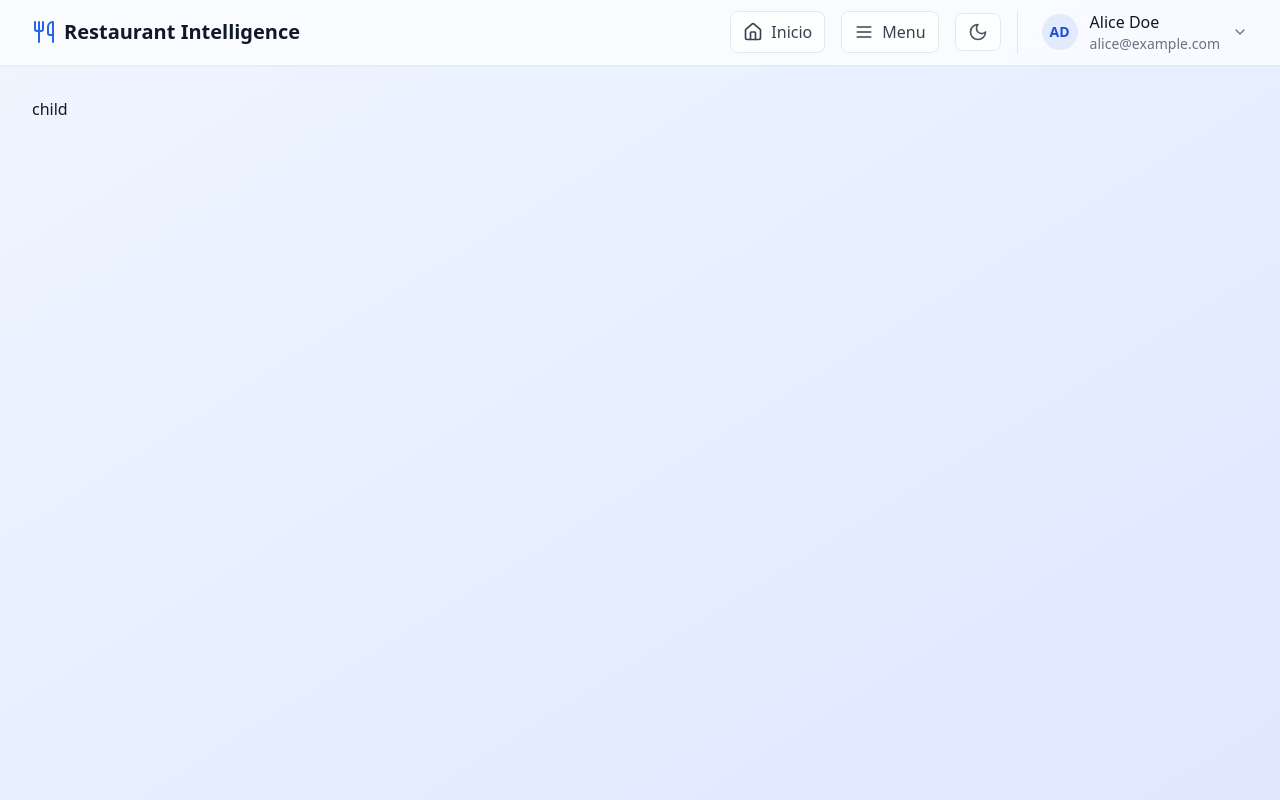
Test: Layout › opens Favorites modal and saves a favorite
abre Menu
Click the button "Menu": point(890, 32) [841,11,939,53]
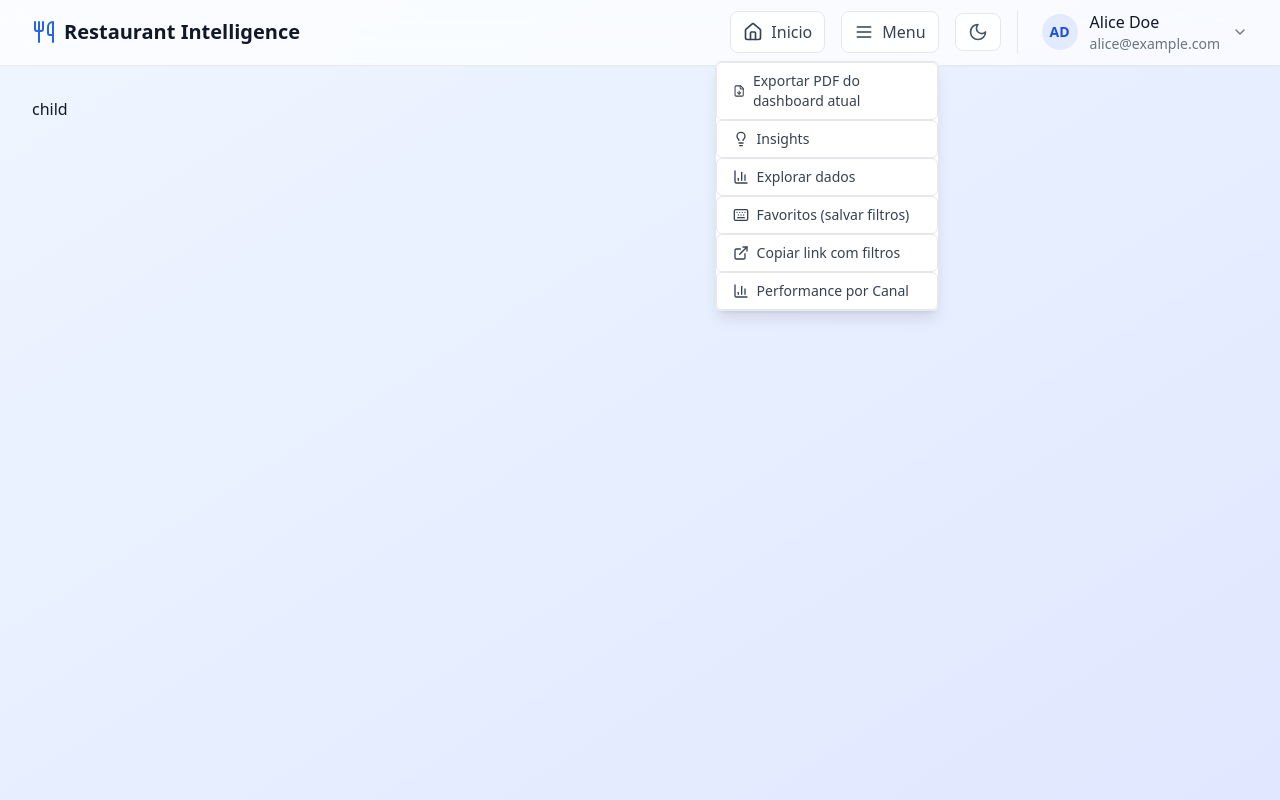
abre Insights (antigo Favoritos)
Click the menu item "Favoritos (salvar filtros)": point(827, 215) [716,196,938,234]
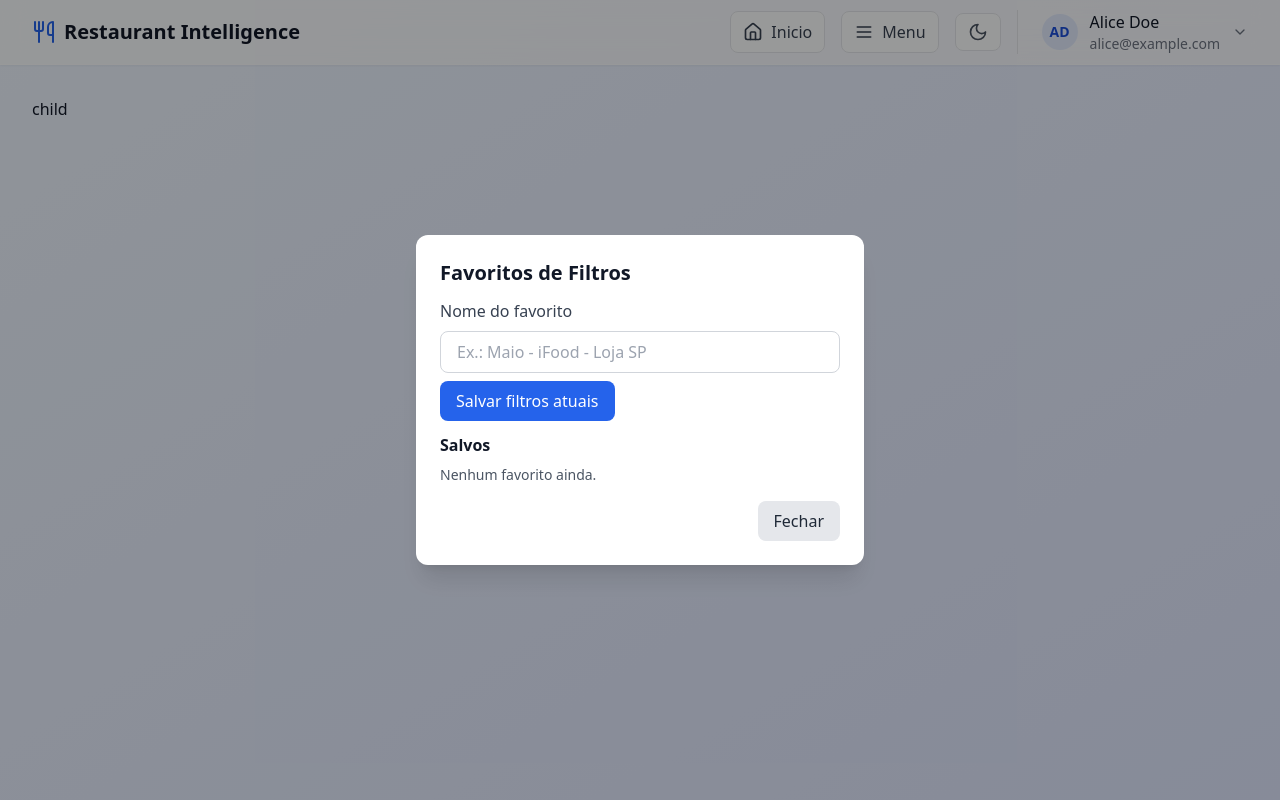
Expected: the dialog is shown
Preenche nome e salva
In the field labelled "Nome do favorito": point(640, 352) [440,331,840,373], type "Meu Filtro"
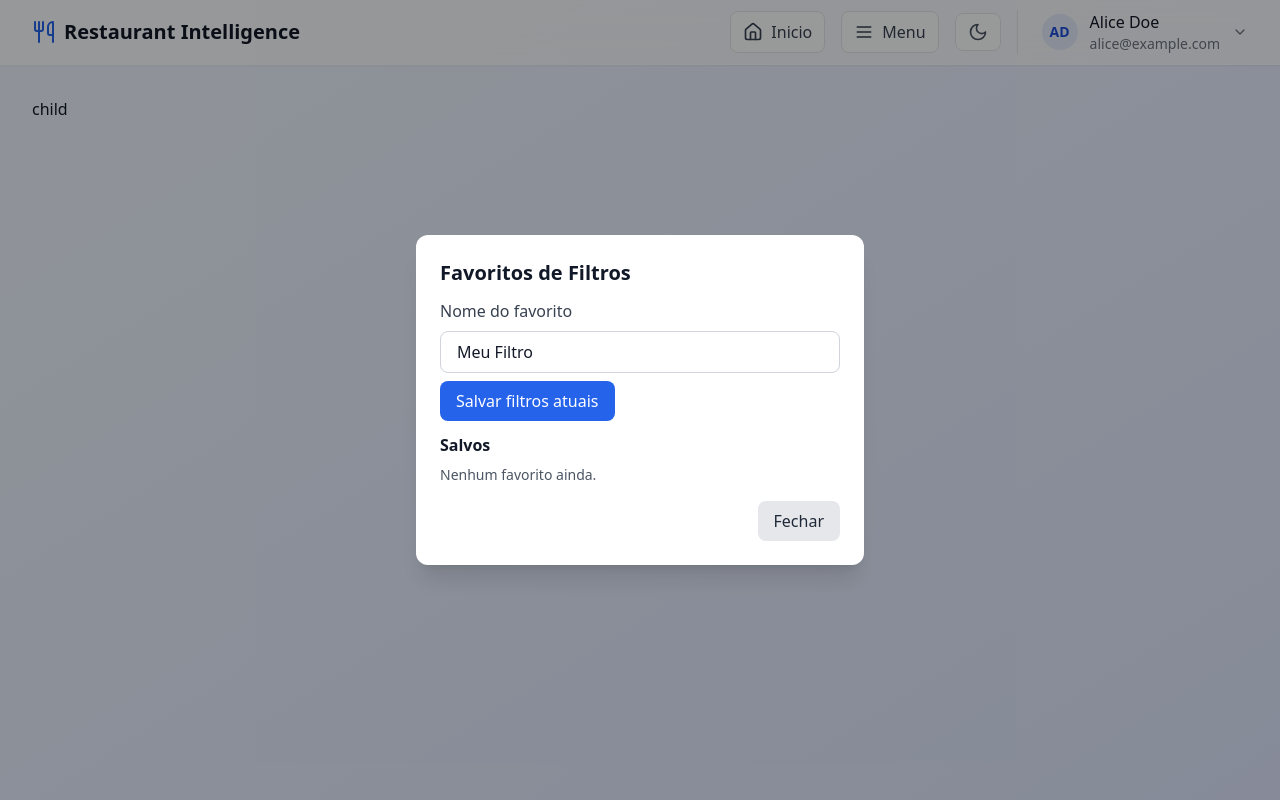
Click the button "Salvar filtros atuais": point(527, 401) [440,381,614,421]
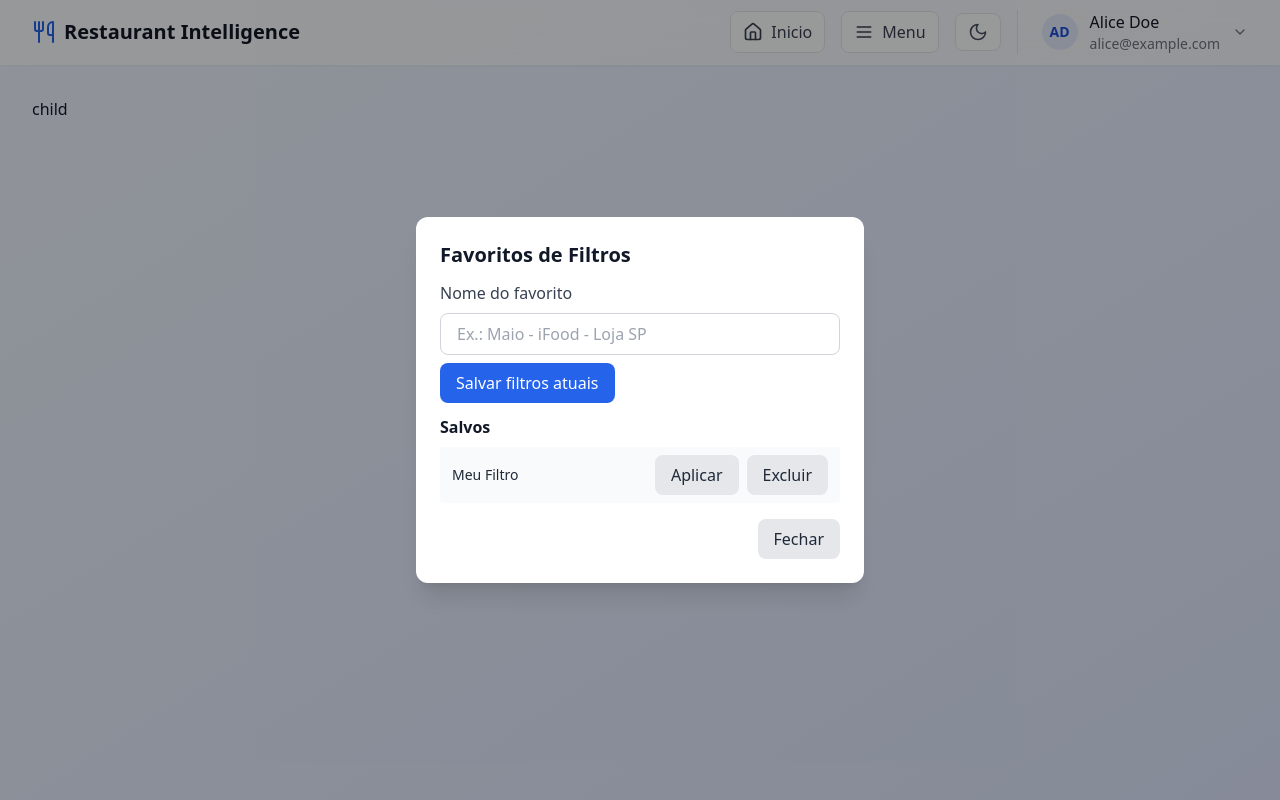
Expected: the text "Meu Filtro" is shown, [452,465,518,485]
